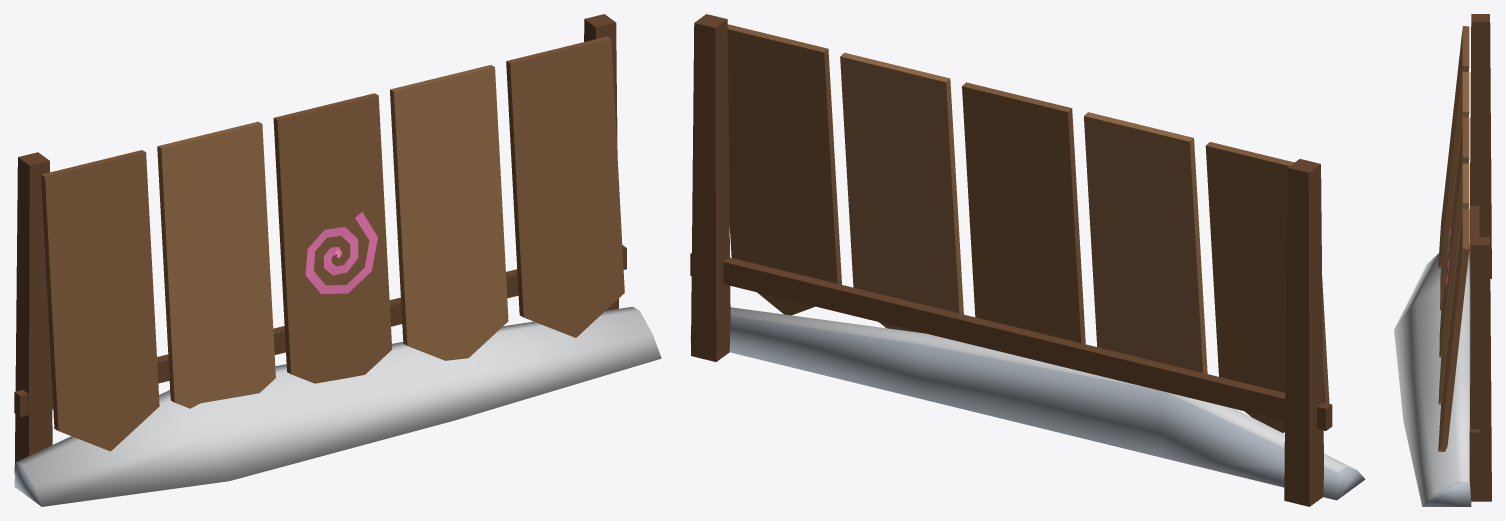
The model's file is snow-fence-trace.glb.
3 renders of one model, left to right at view 1: azimuth 30°, elevation 25°; view 2: azimuth 150°, elevation 25°; view 3: azimuth 270°, elevation 25°, orthographic. The views are drawn at different scales.
Visible parts, largest first — view 1: snow-fence-trace; view 2: snow-fence-trace; view 3: snow-fence-trace.
Part boxes in pixels (x1,y1,x2,y2): snow-fence-trace: (14, 14, 661, 506); snow-fence-trace: (690, 14, 1365, 506); snow-fence-trace: (1394, 14, 1491, 506).
Bounding box in the file's own units: 6.1 × 3 × 1.04.
